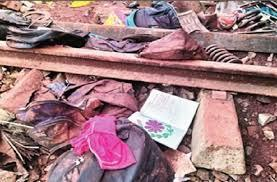mulch: (129, 81, 191, 150), (139, 32, 203, 70)
